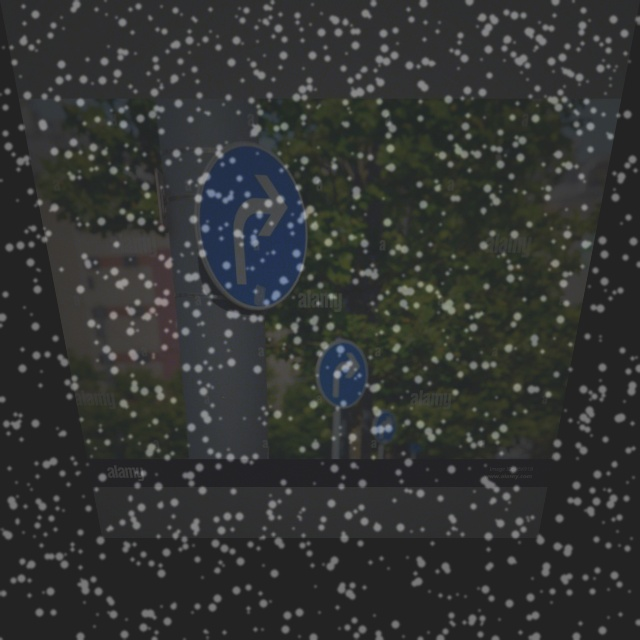Compulsory_Turn_Right_Ahead: (191, 144, 304, 309)
